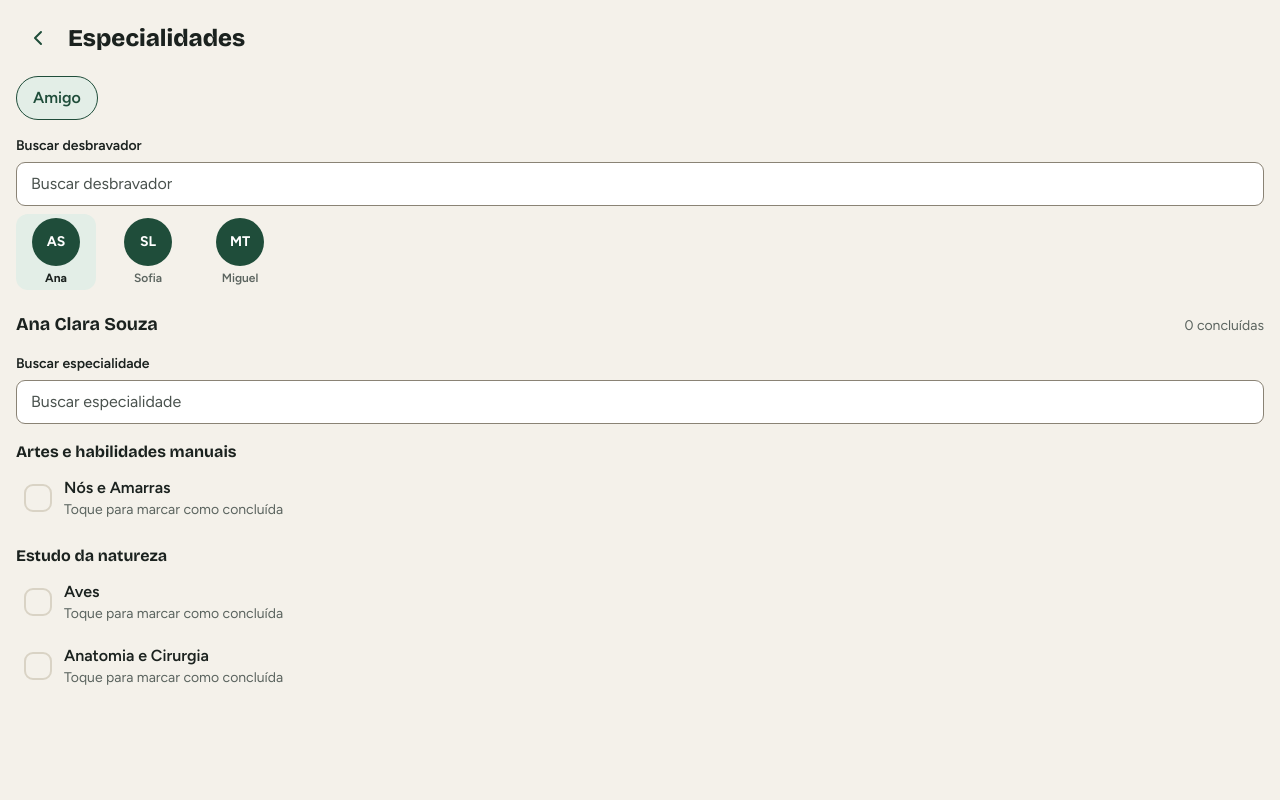
Test case: Especialidades › marcar abre a data e grava a data escolhida
Click the button "Aves Toque para marcar como concluída": (82, 592) [16, 572, 1264, 632]
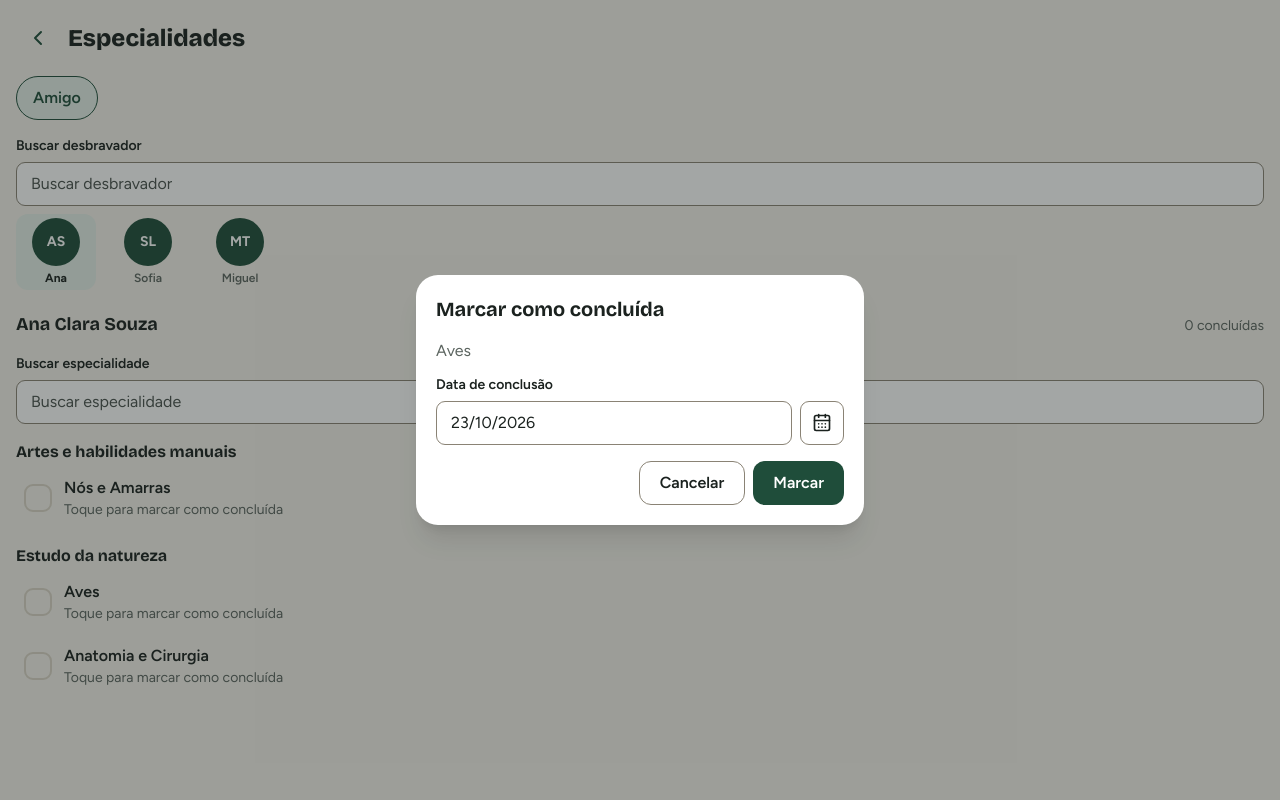
Replace the text in the field labelled "Data de conclusão" with "15/09/2030": (614, 423) [436, 401, 792, 445]
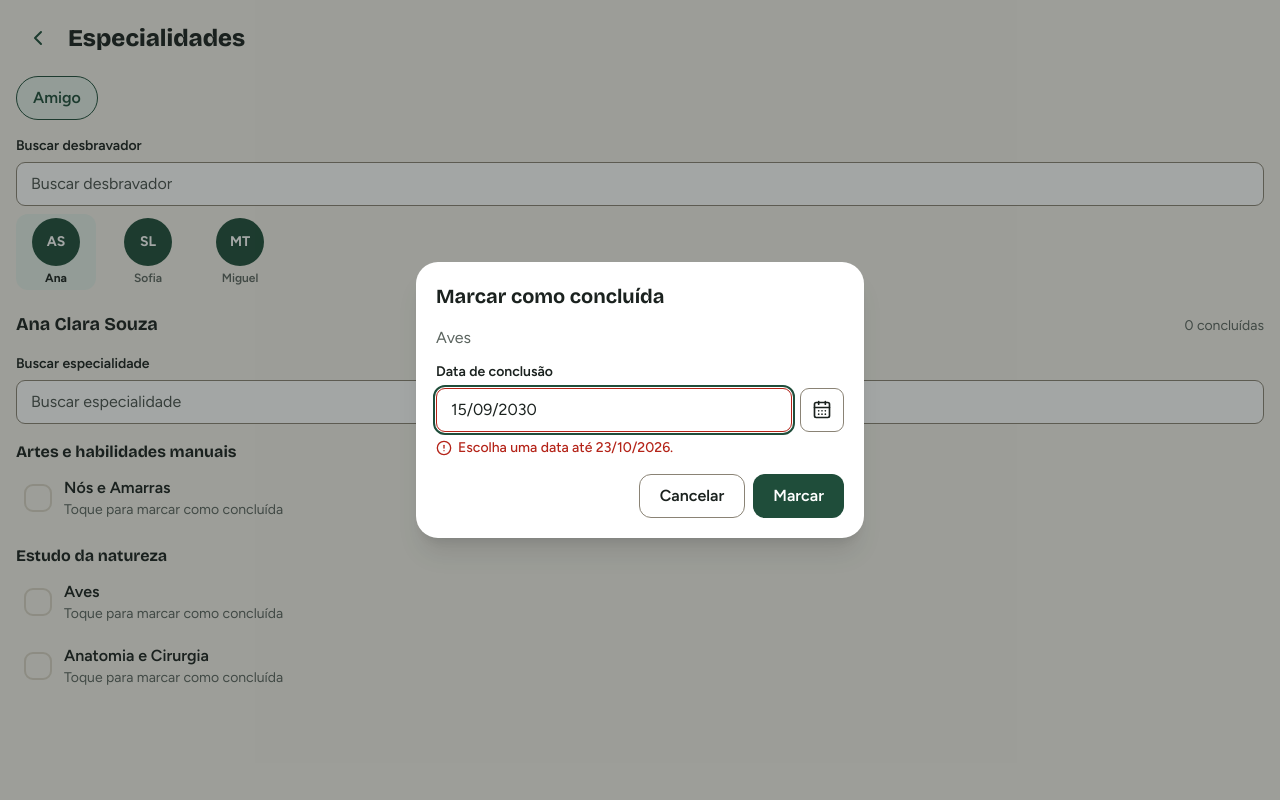
Click the button "Marcar": (799, 496) [753, 474, 844, 518]
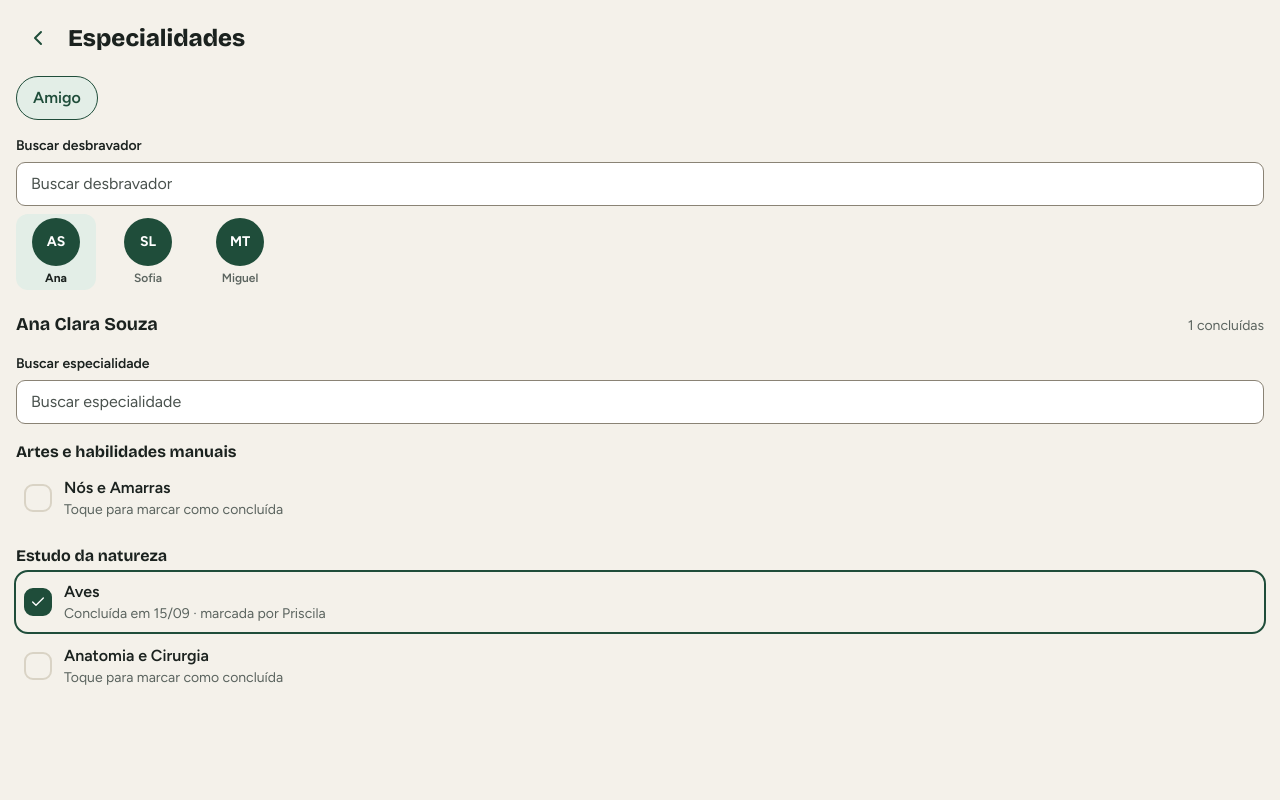
Check: the text "Concluída em 15/09 · marcada por Priscila" is shown, box [64, 604, 326, 624]
Check: the dialog is gone
